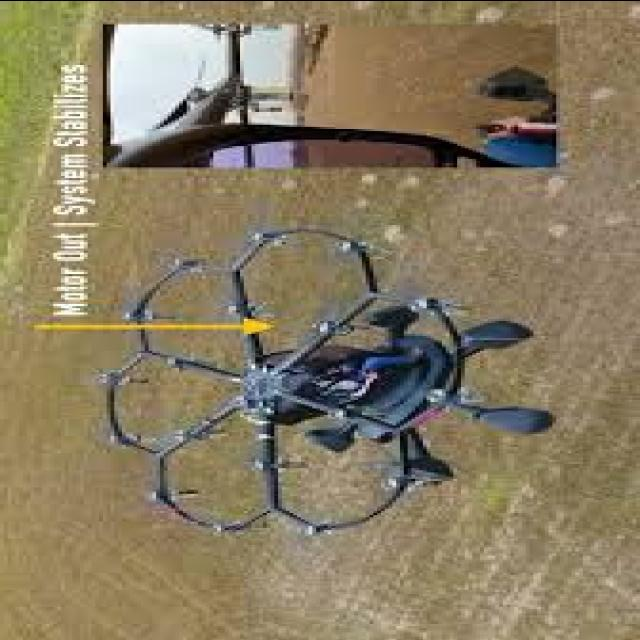drone: (74, 222, 574, 550)
